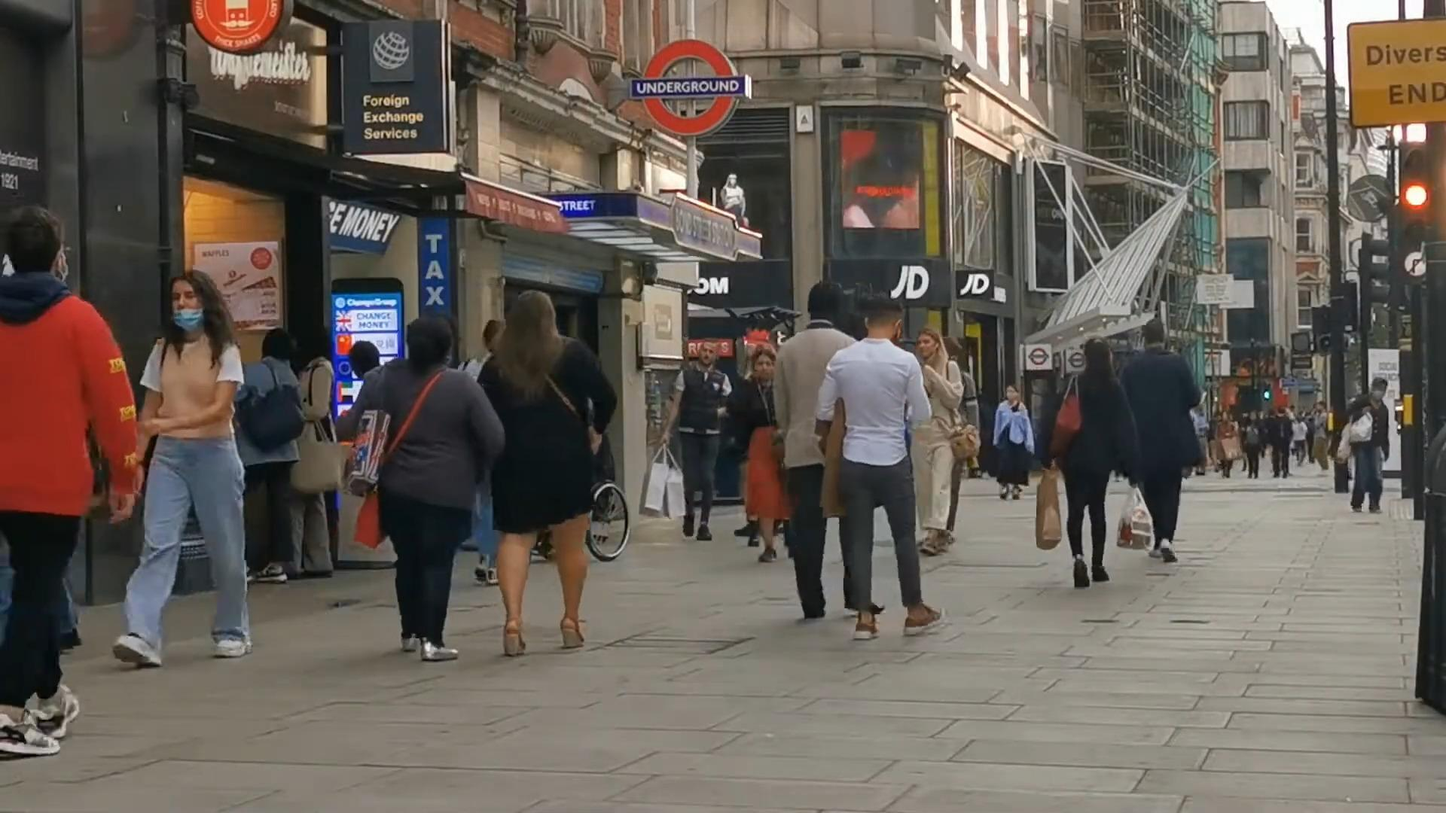no-helmet: (4, 204, 69, 283), (166, 270, 232, 337), (501, 290, 562, 344), (406, 315, 453, 366), (866, 292, 903, 345), (261, 327, 297, 363), (1084, 336, 1113, 374), (915, 329, 948, 362), (750, 343, 777, 382), (1143, 318, 1165, 348), (697, 338, 718, 367)
